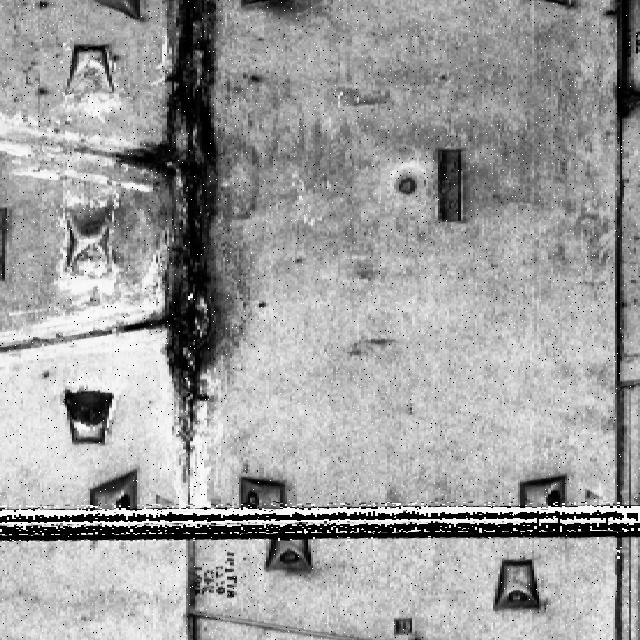leakage: (110, 1, 230, 461)
